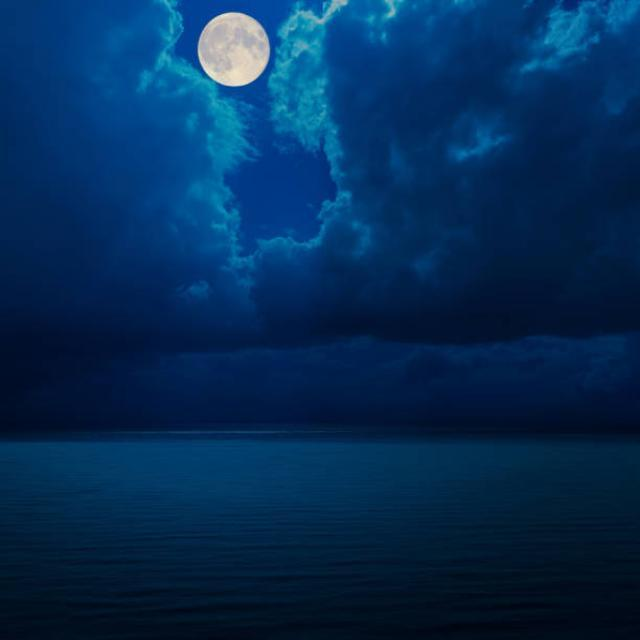moon: (192, 8, 272, 88)
